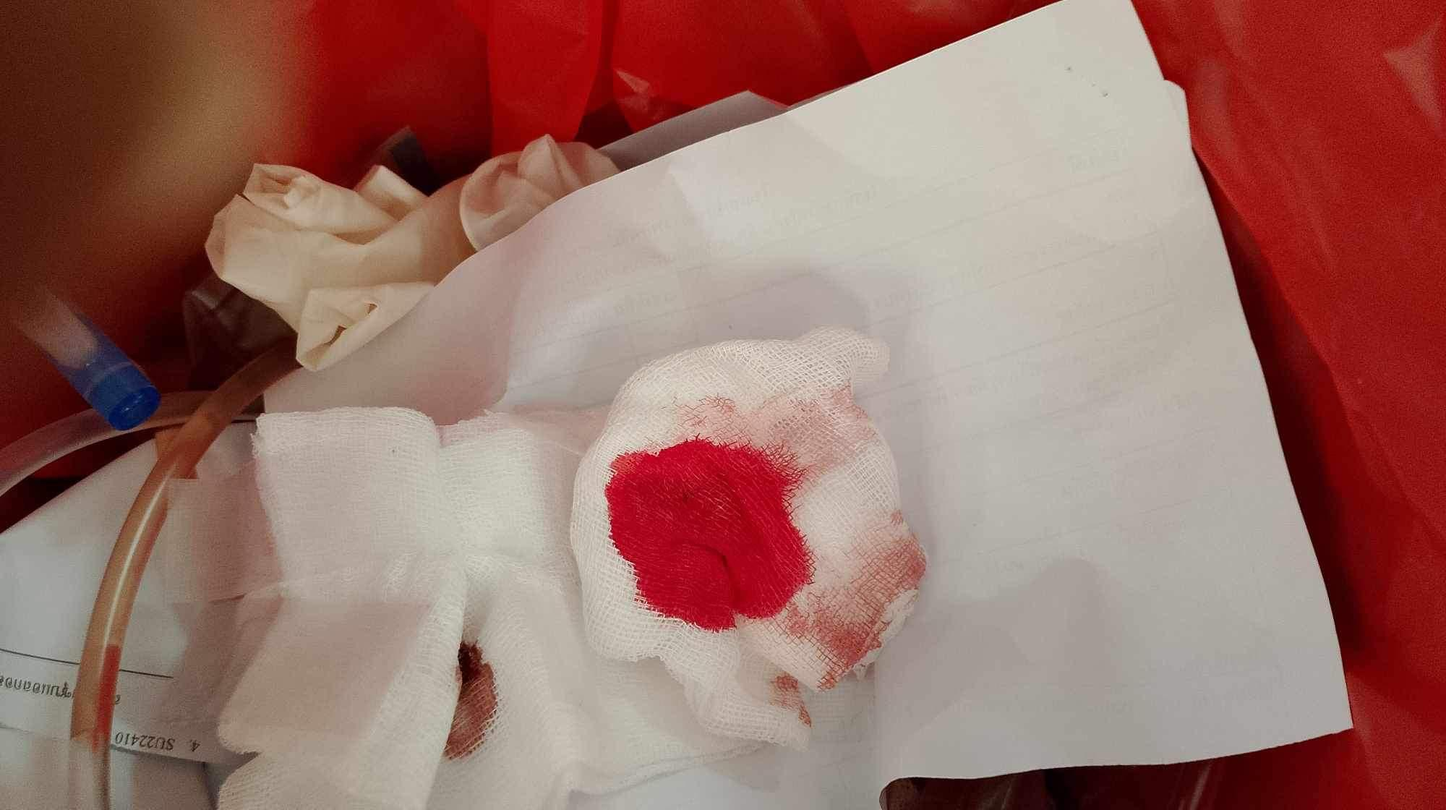General: (4, 4, 1356, 805)
Infectious: (566, 323, 928, 751)
Sharps: (7, 276, 162, 433)
